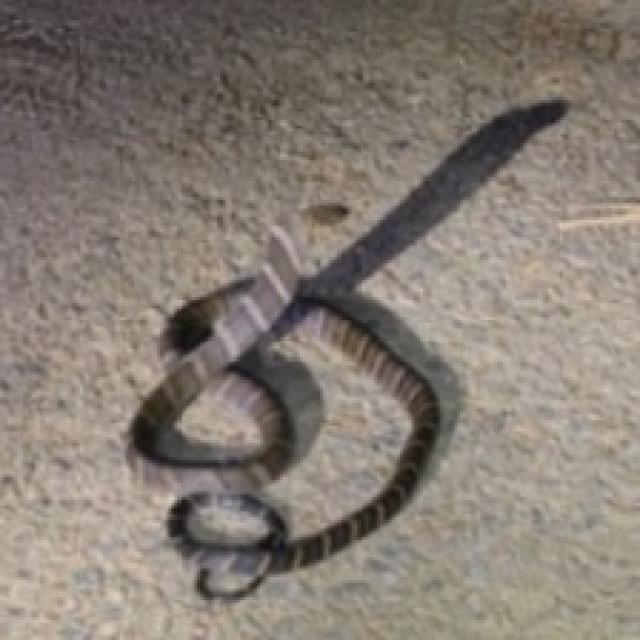king cobra: (131, 100, 566, 597), (131, 226, 446, 597), (174, 377, 266, 460)
